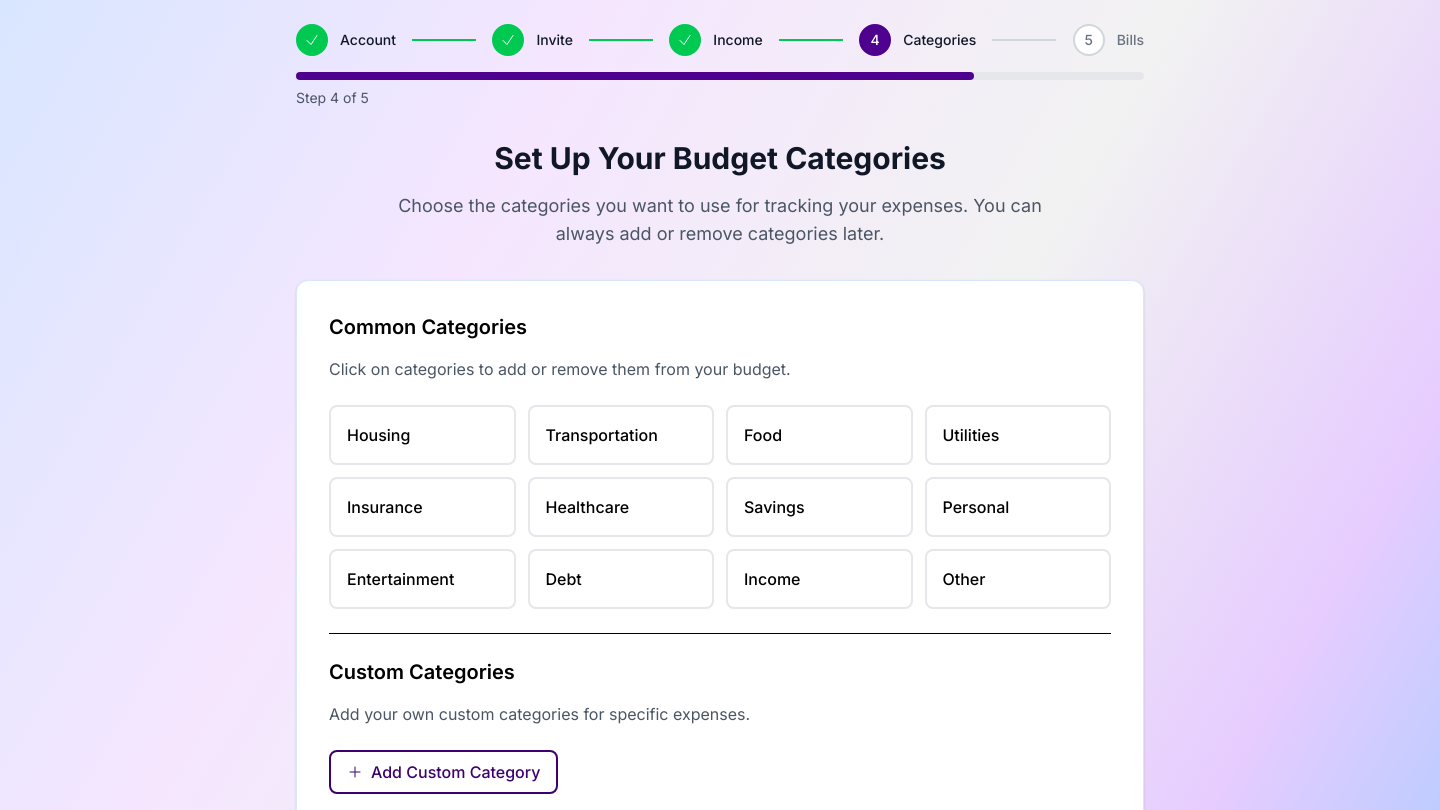
Scenario: CategoriesOnboardingPage › Category Selection › allows selecting categories
The image size is (1440, 810).
Click the button "Housing" at (422, 435), box [329,405,516,465]
(page scrolled)
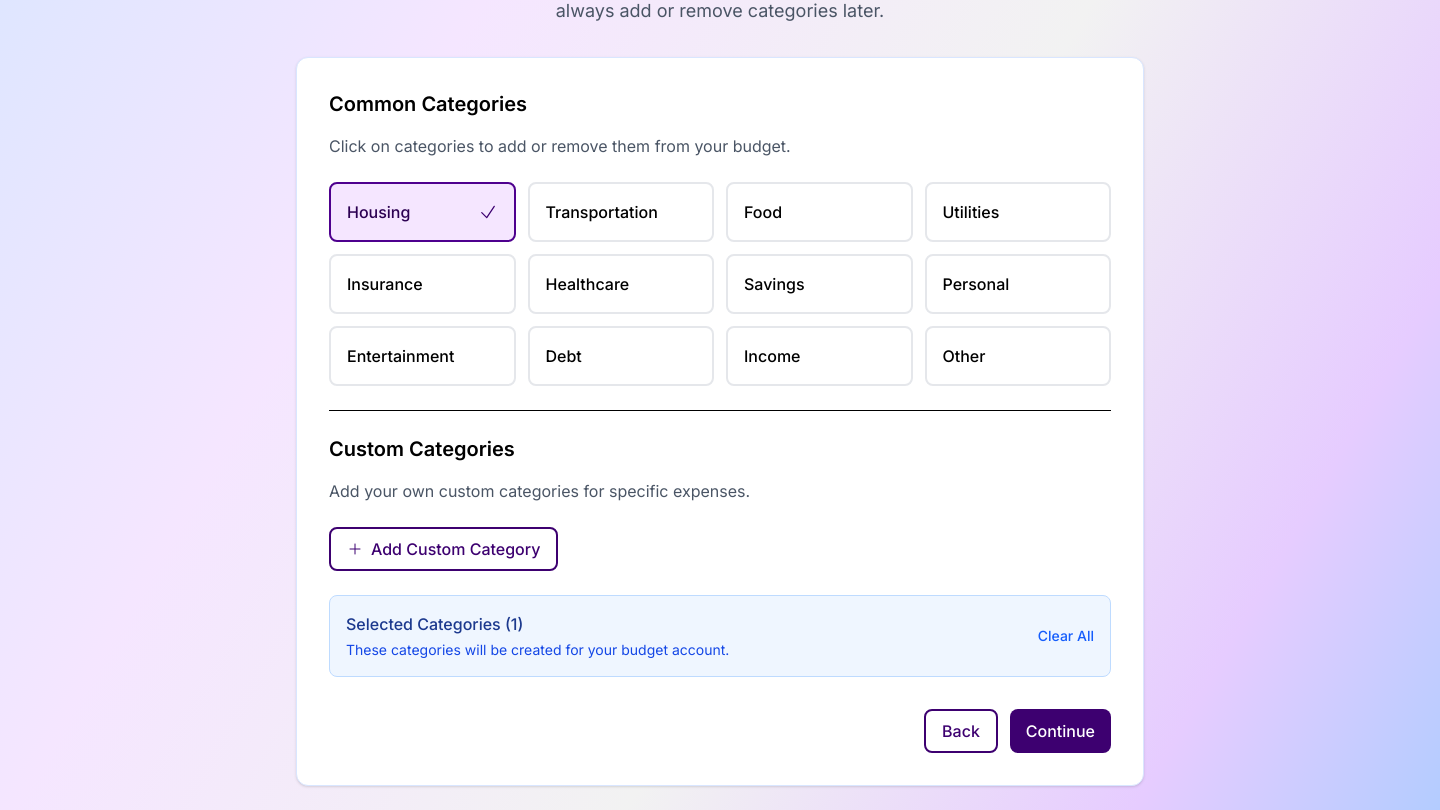
Result: the heading "Selected Categories (1)" is shown at [346,614,523,634]
